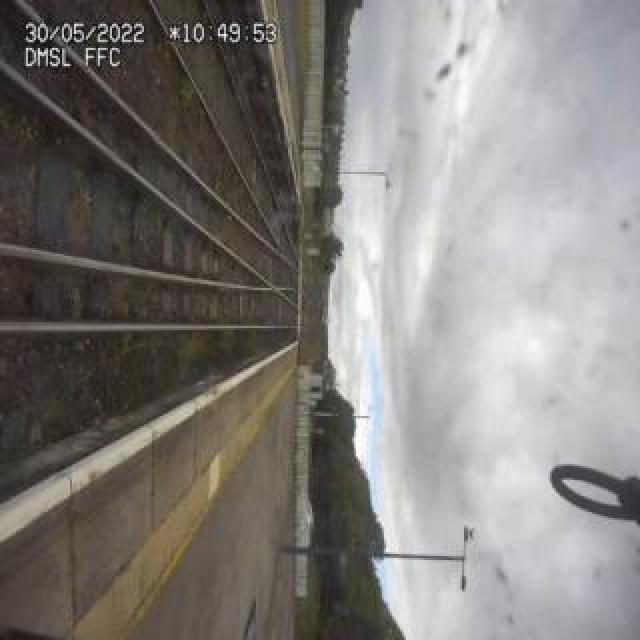Station-Lights-Off: (461, 524, 471, 550)
